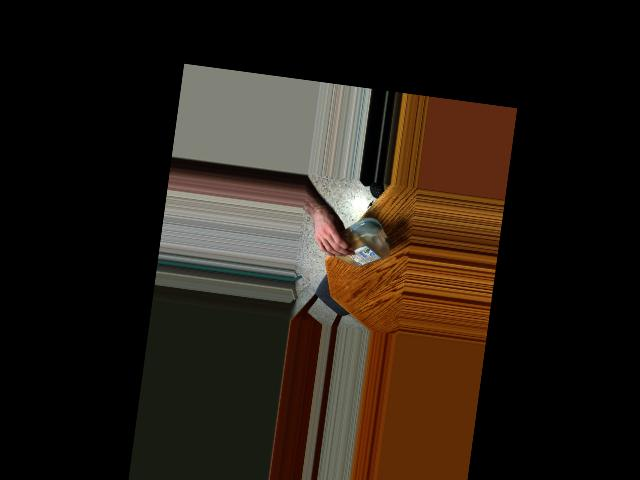cheese: (323, 213, 395, 274)
